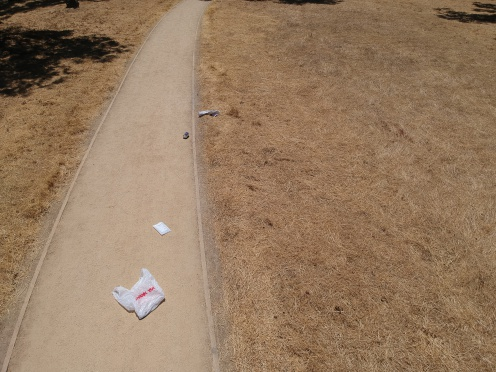can: (179, 129, 192, 141)
plastic bag: (102, 258, 170, 318)
